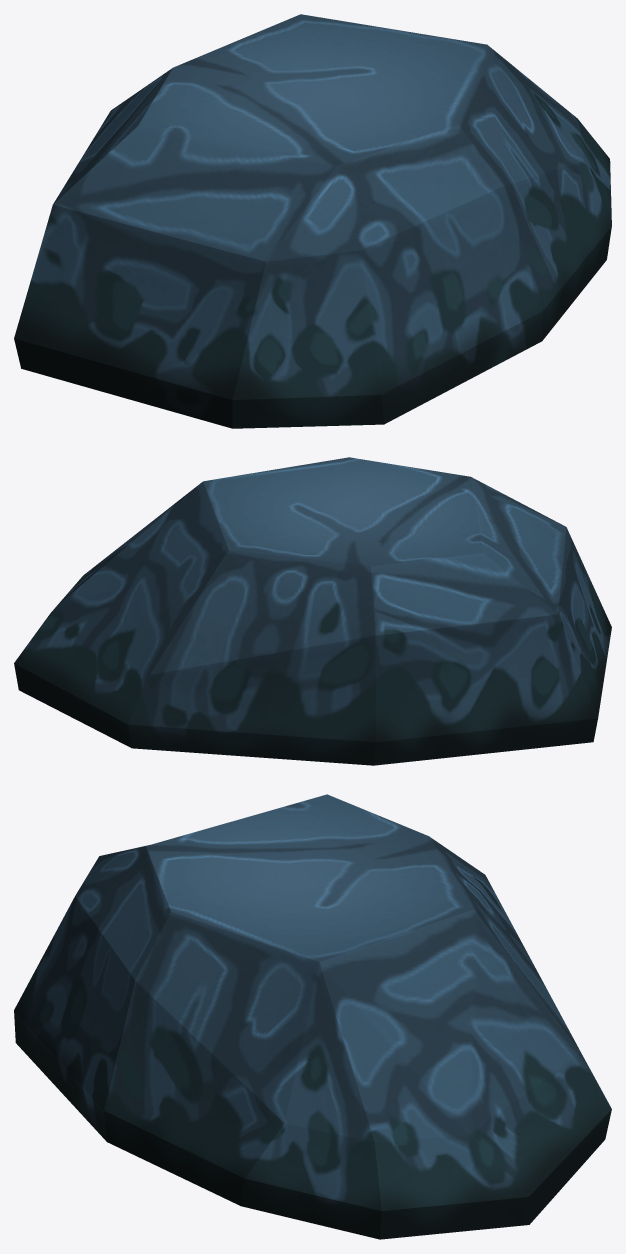
The model's file is Rock1.FBX.
3 views of the same model, one above another, from view 1: azimuth 30°, elevation 25°; view 2: azimuth 150°, elevation 25°; view 3: azimuth 270°, elevation 25° (orthographic). The views are drawn at different scales.
Parts seen in each view (by area): view 1: Rock1; view 2: Rock1; view 3: Rock1.
Part boxes in pixels (x1,y1,x2,y2): Rock1: [14, 14, 611, 428]; Rock1: [14, 457, 611, 765]; Rock1: [14, 794, 611, 1239].
Size of the model in its own units: 49.24 by 15.36 by 40.57.
